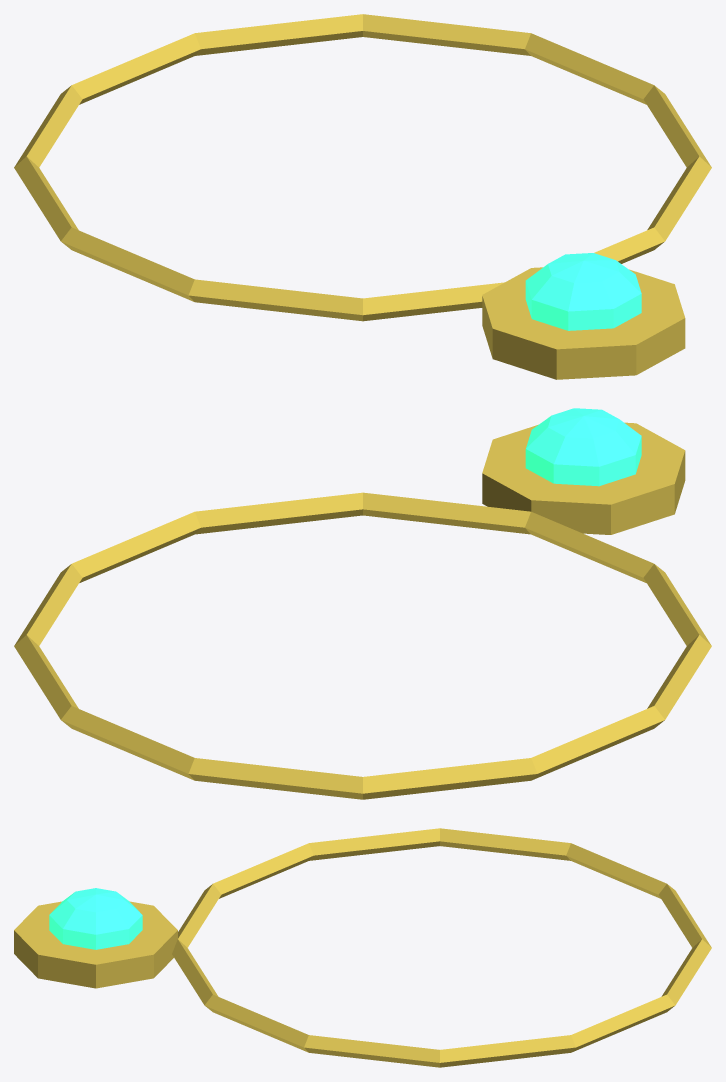
Rendered from artifact_amulet.glb.
3 views of the same model, one above another, from view 1: azimuth 30°, elevation 25°; view 2: azimuth 150°, elevation 25°; view 3: azimuth 270°, elevation 25° (orthographic). The views are drawn at different scales.
Parts seen in each view (by area): view 1: artifact_amulet; view 2: artifact_amulet; view 3: artifact_amulet.
Boxes of the visible parts, box(x1,y1,x2,y2) form: artifact_amulet: box(14, 14, 711, 379); artifact_amulet: box(14, 408, 711, 799); artifact_amulet: box(14, 828, 711, 1067).
Size of the model in its own units: 0.166 by 0.021 by 0.213.
